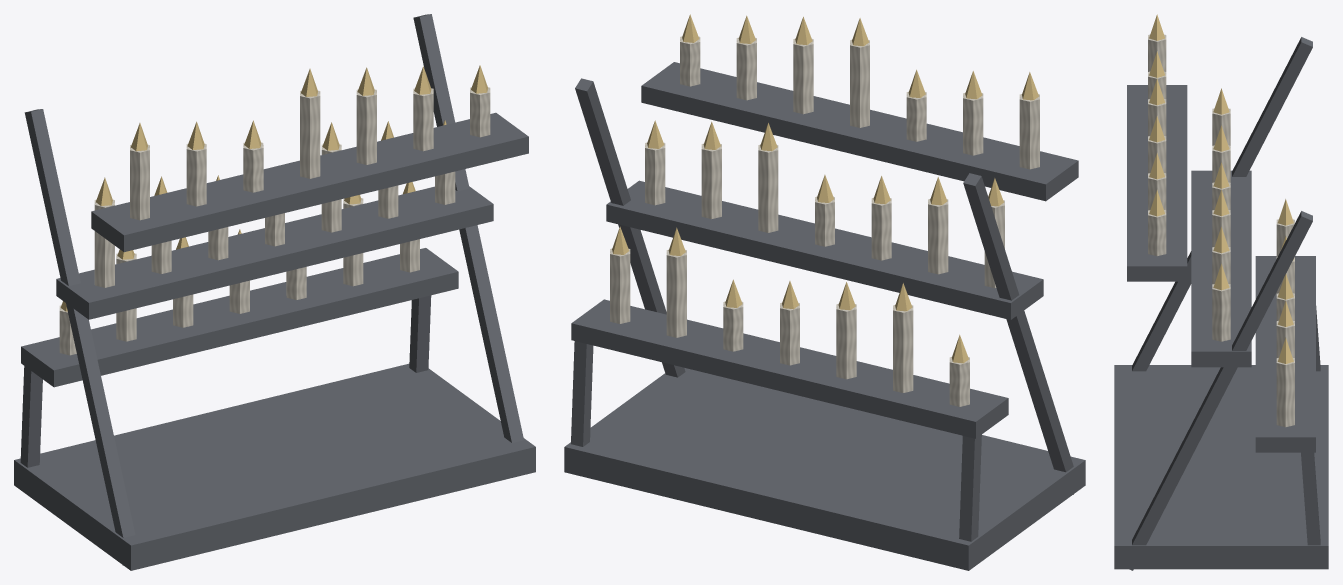
The model's file is vampire-crypt-and-gothic-cathedral-votive-candle-rack-6c6d14d8__23021.glb.
3 views of the same model, side by side, from view 1: azimuth 30°, elevation 25°; view 2: azimuth 150°, elevation 25°; view 3: azimuth 270°, elevation 25° (orthographic). The views are drawn at different scales.
Parts seen in each view (by area): view 1: votive-candle-rack; view 2: votive-candle-rack; view 3: votive-candle-rack.
Part boxes in pixels (<box>): votive-candle-rack: <box>14,14,535,570</box>; votive-candle-rack: <box>564,14,1085,570</box>; votive-candle-rack: <box>1114,14,1328,570</box>.
Bounding box in the file's own units: 1 × 1.04 × 0.5001.
3 materials, 1 textured.
